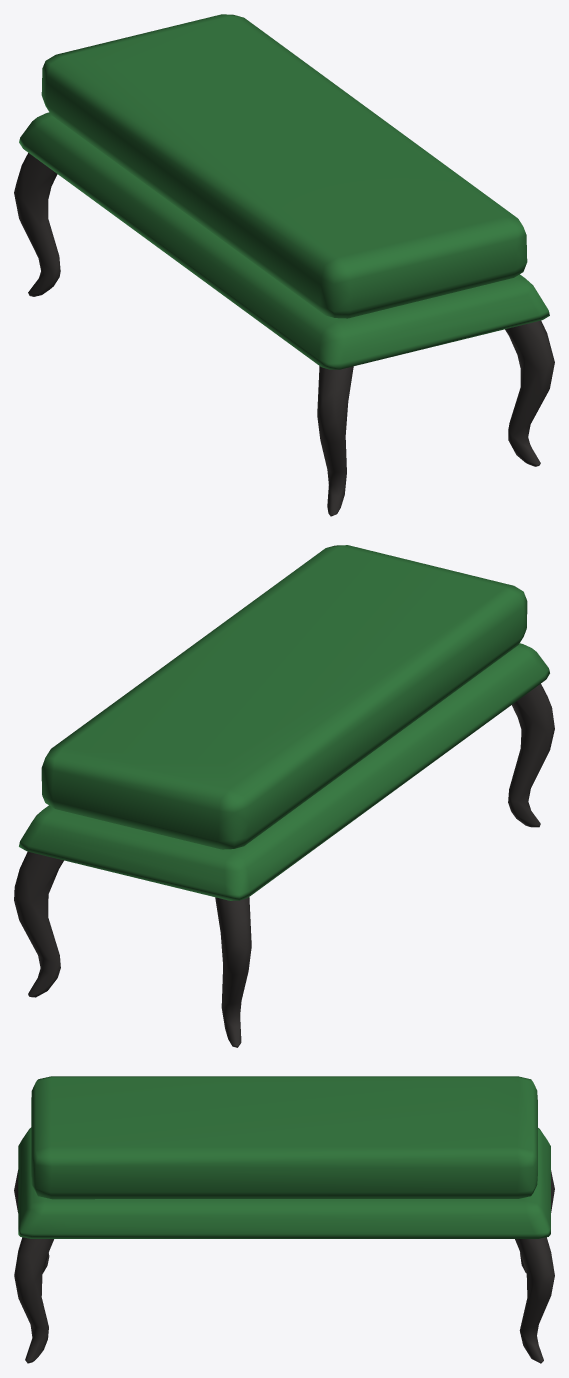
File: footstool_01_green.fbx
The picture shows the model from 3 angles, top to bottom: view 1: azimuth 30°, elevation 25°; view 2: azimuth 150°, elevation 25°; view 3: azimuth 270°, elevation 25°; orthographic projection. The views are drawn at different scales.
Visible parts, largest first — view 1: footstool_01_green; view 2: footstool_01_green; view 3: footstool_01_green.
Part boxes in pixels (x1,y1,x2,y2): footstool_01_green: [14, 14, 554, 516]; footstool_01_green: [14, 545, 554, 1047]; footstool_01_green: [14, 1076, 554, 1363].
Bounding box in the file's own units: 46.53 × 46.52 × 109.
2 materials, 2 textured.
